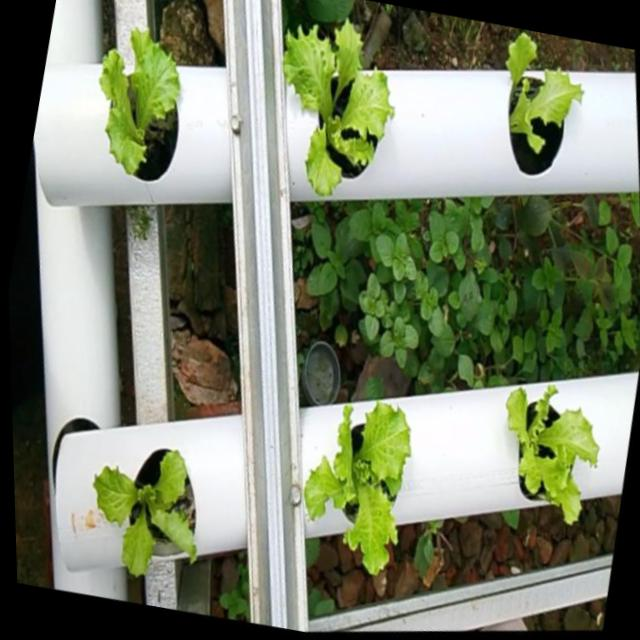Baby: (280, 14, 391, 195), (299, 399, 406, 572), (88, 444, 192, 573), (501, 385, 593, 525), (97, 25, 177, 178), (503, 36, 579, 178)
